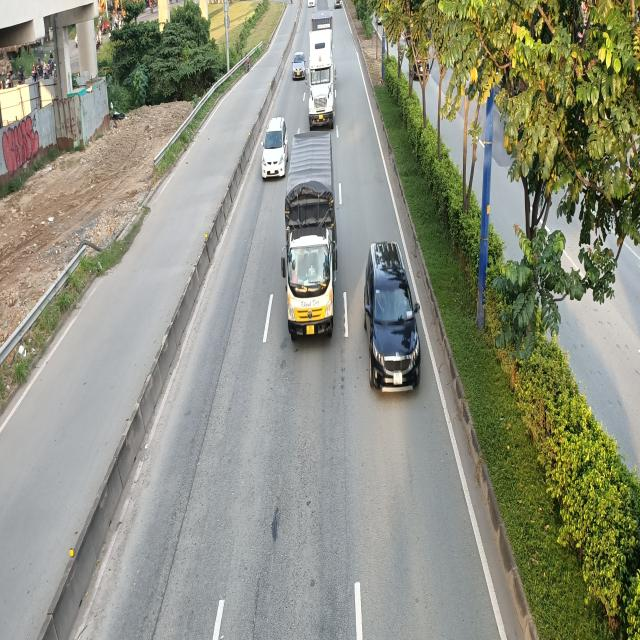car: (366, 238, 422, 392), (262, 117, 289, 180), (291, 53, 306, 81)
container: (308, 7, 339, 128)
truck: (284, 135, 341, 340)
